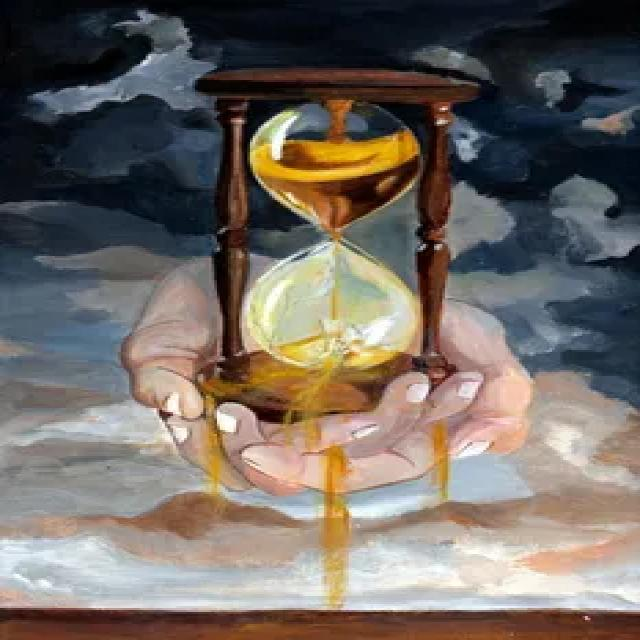clock: (185, 47, 482, 439)
